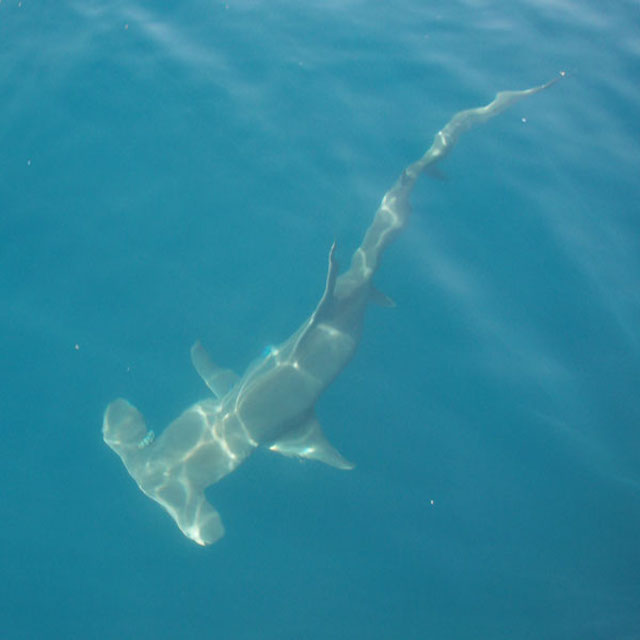hammerhead: (84, 349, 335, 596)
